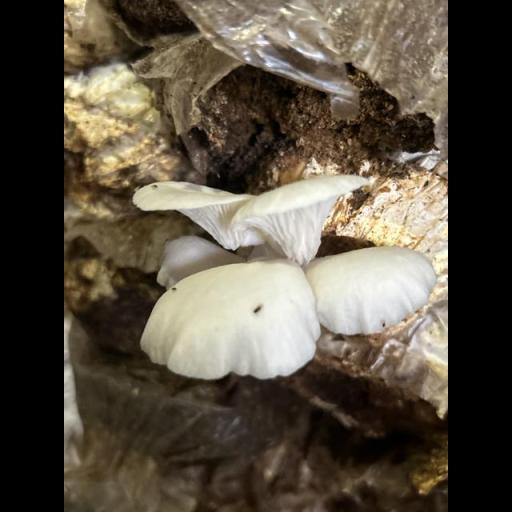White Oyster Mushroom: (106, 144, 440, 395)
